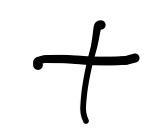plus: (33, 20, 140, 124)
